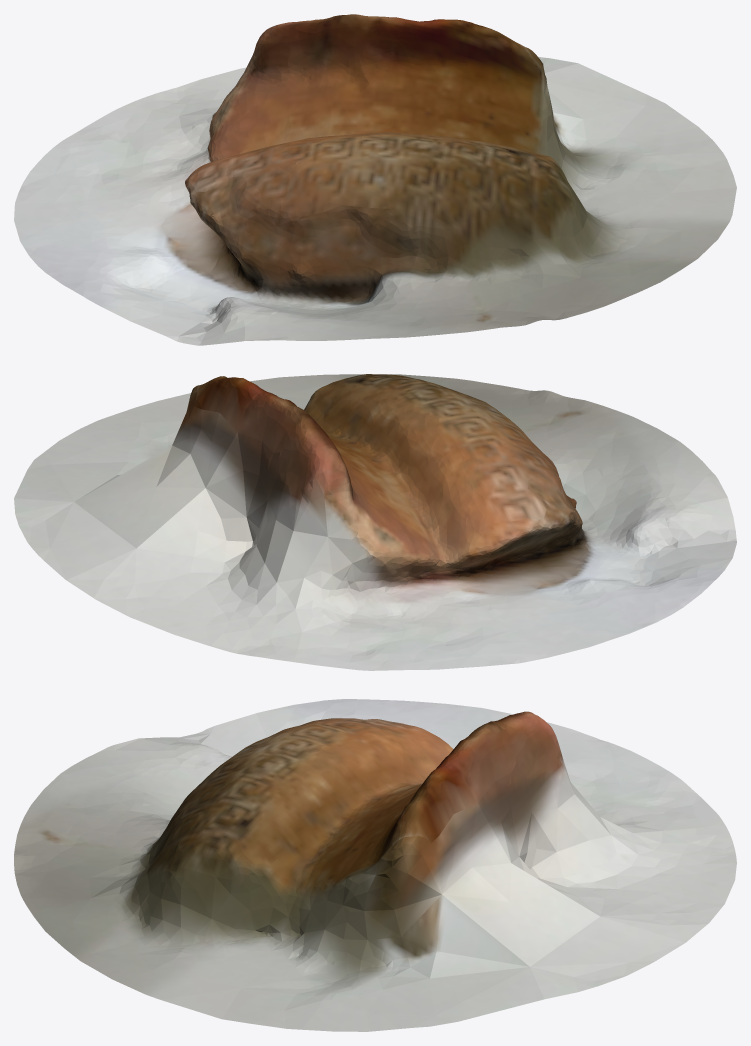
3 renders of one model, top to bottom at view 1: azimuth 30°, elevation 25°; view 2: azimuth 150°, elevation 25°; view 3: azimuth 270°, elevation 25°, orthographic. The views are drawn at different scales.
Parts seen in each view (by area): view 1: mesh; view 2: mesh; view 3: mesh.
Boxes of the visible parts, bbox=[...] form: mesh: bbox=[14, 14, 736, 345]; mesh: bbox=[14, 374, 736, 670]; mesh: bbox=[14, 699, 736, 1031].
Size of the model in its own units: 0.0993 by 0.0244 by 0.0913.
1 material, 1 textured.
